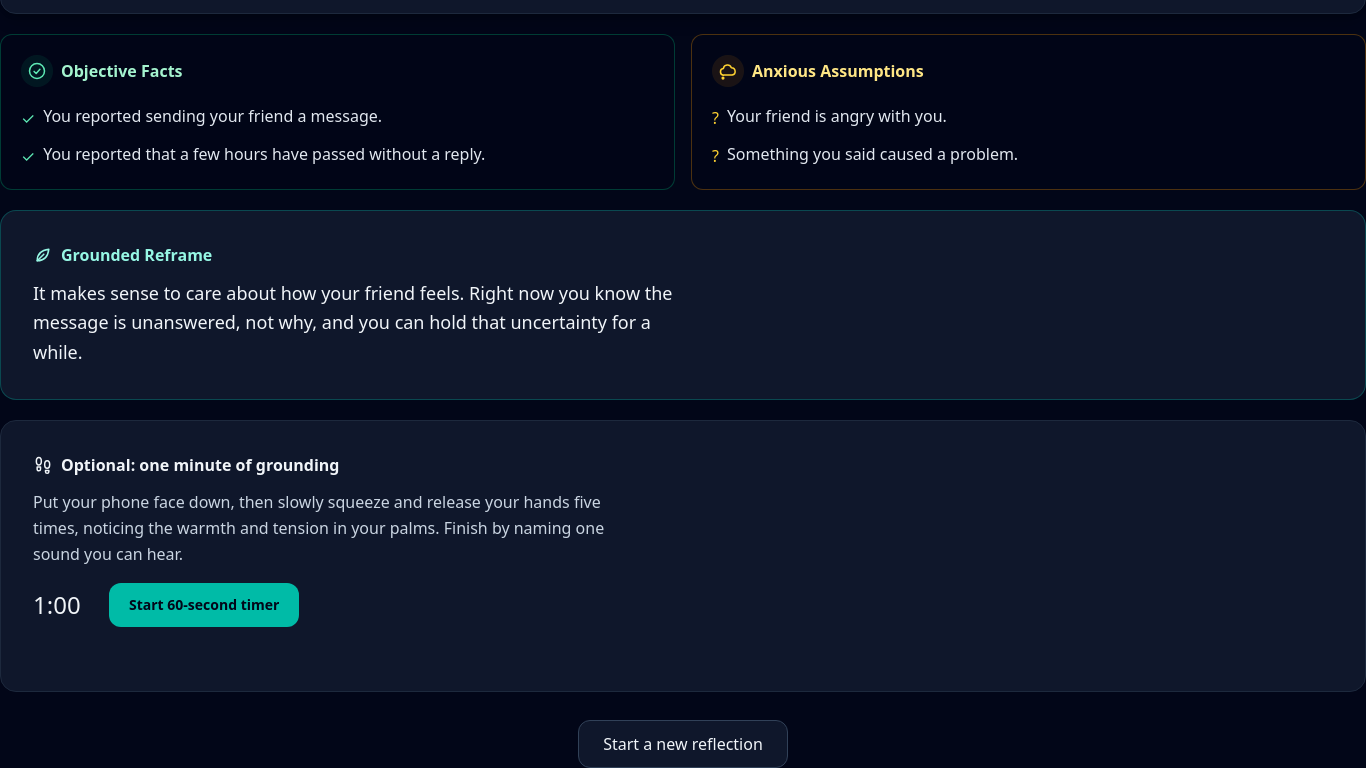
Test: DistortionBreakdown grounding timer › runs, pauses, resumes, completes, and resets
The width and height of the screenshot is (1366, 768).
(page scrolled)
What coordinates should you click on to do the following:
click the button "Start 60-second timer"
I would click on:
 (204, 605)
Its box is [109, 583, 299, 627].
Wait 10000 ms
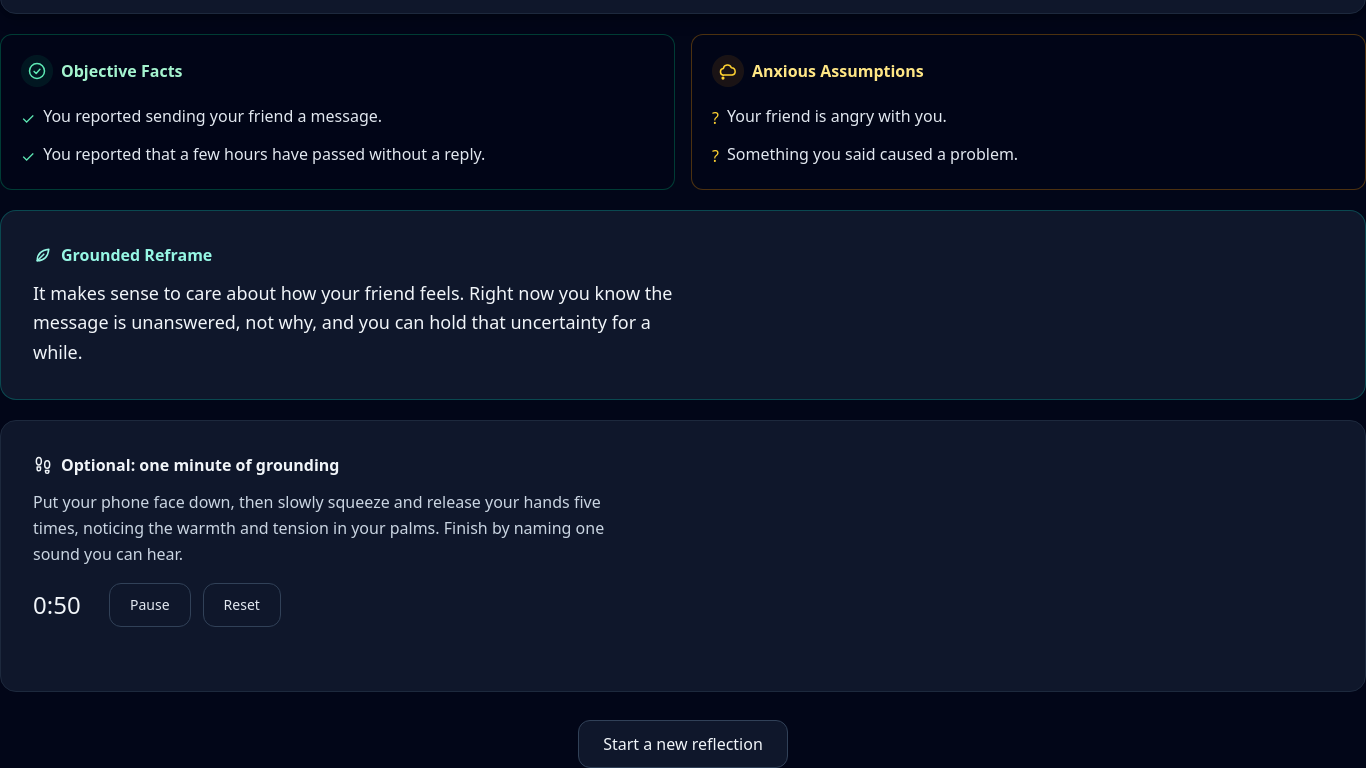
Result: the text "0:50" is shown at [33, 588, 81, 621]
What coordinates should you click on to do the following:
click the button "Pause"
I would click on:
 (150, 605)
Its box is [109, 583, 191, 627].
Wait 30000 ms
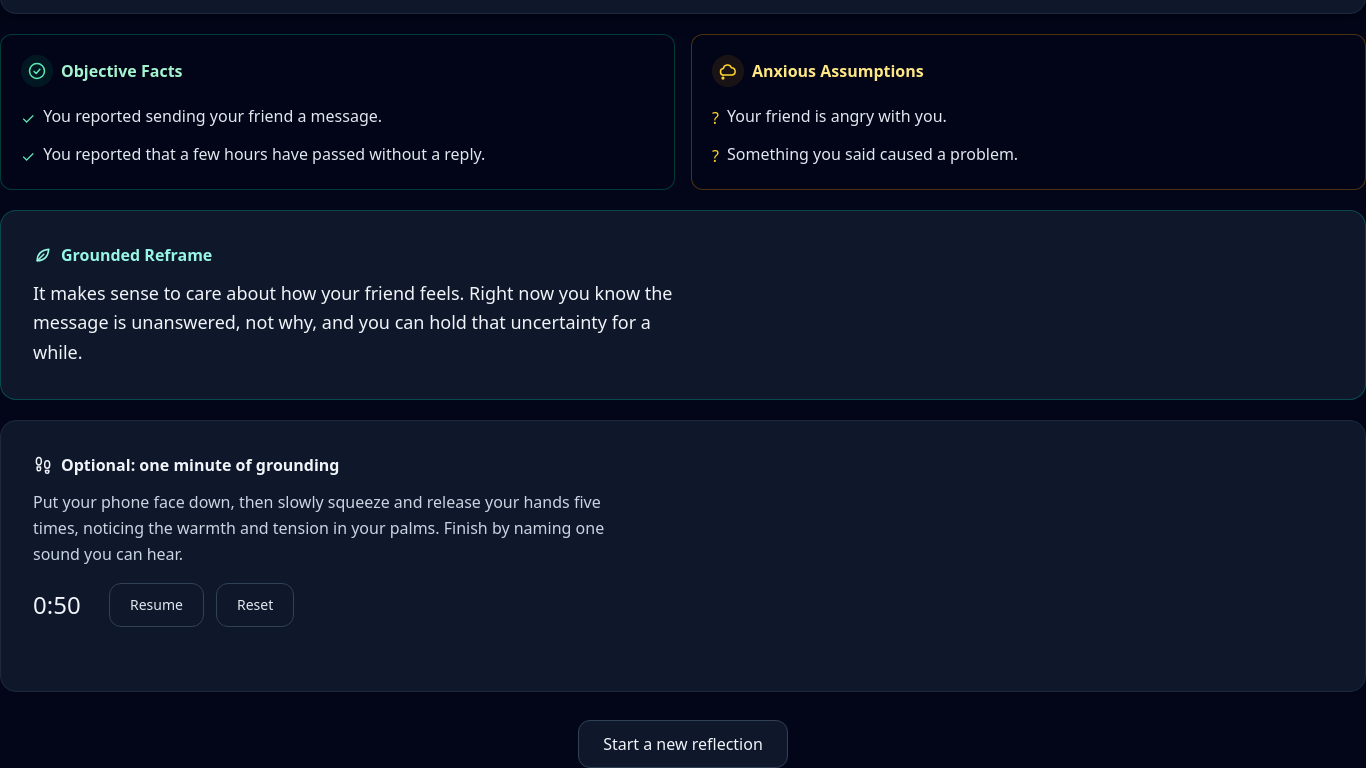
Result: the text "0:50" is shown at [33, 588, 81, 621]
What coordinates should you click on to do the following:
click the button "Resume"
I would click on:
 (156, 605)
Its box is [109, 583, 204, 627].
Wait 50100 ms
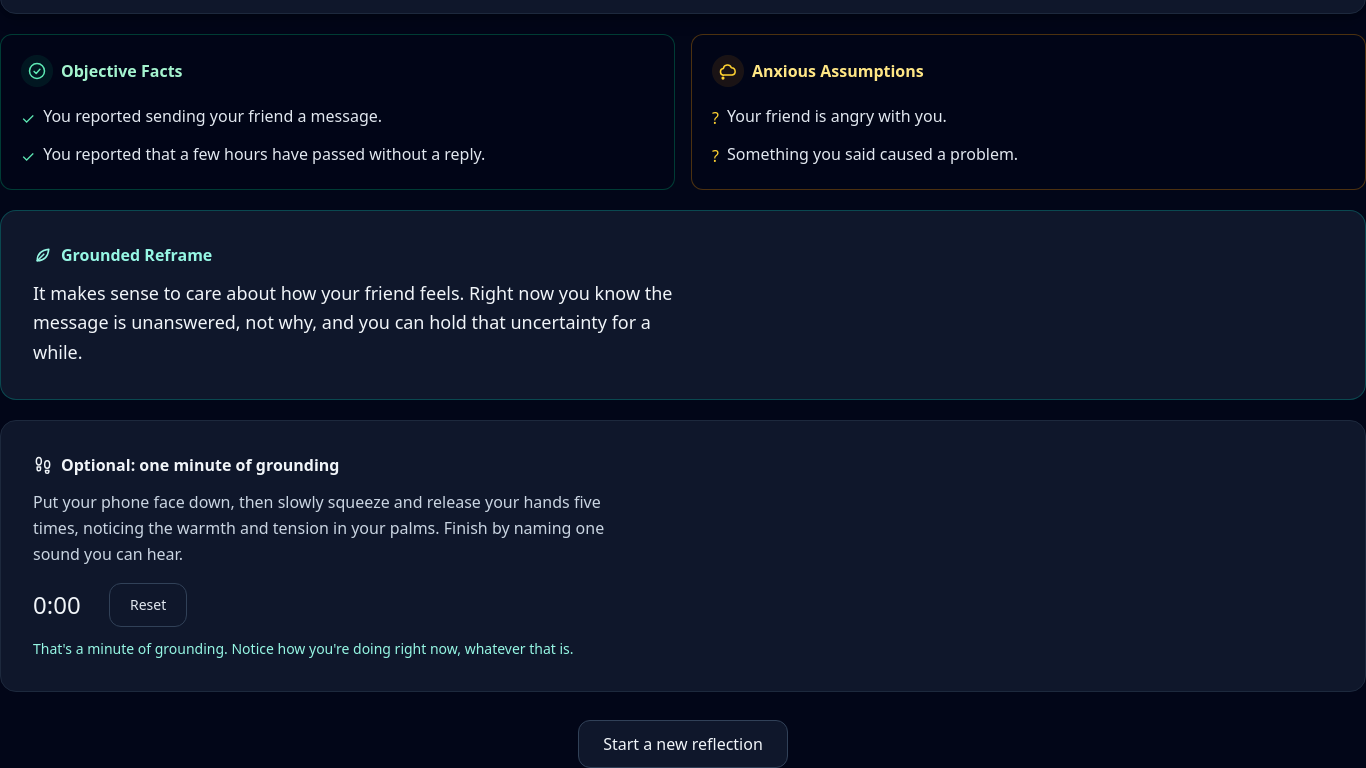
Result: the text "That's a minute of grounding" is shown at [33, 639, 574, 658]
What coordinates should you click on to do the following:
click the button "Reset"
I would click on:
 (148, 605)
Its box is [109, 583, 187, 627].
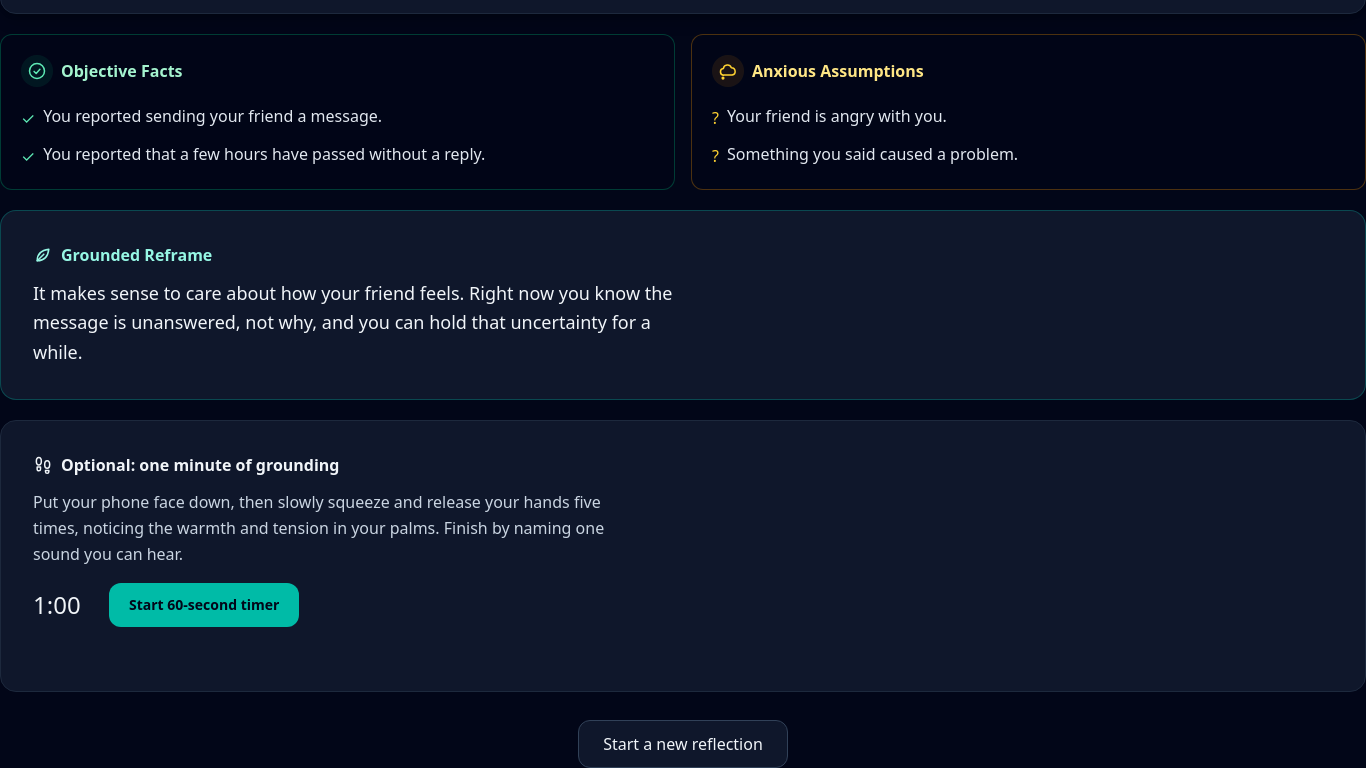
Result: the text "1:00" is shown at [33, 588, 81, 621]
Result: the button "Start 60-second timer" is shown at [109, 583, 299, 627]
